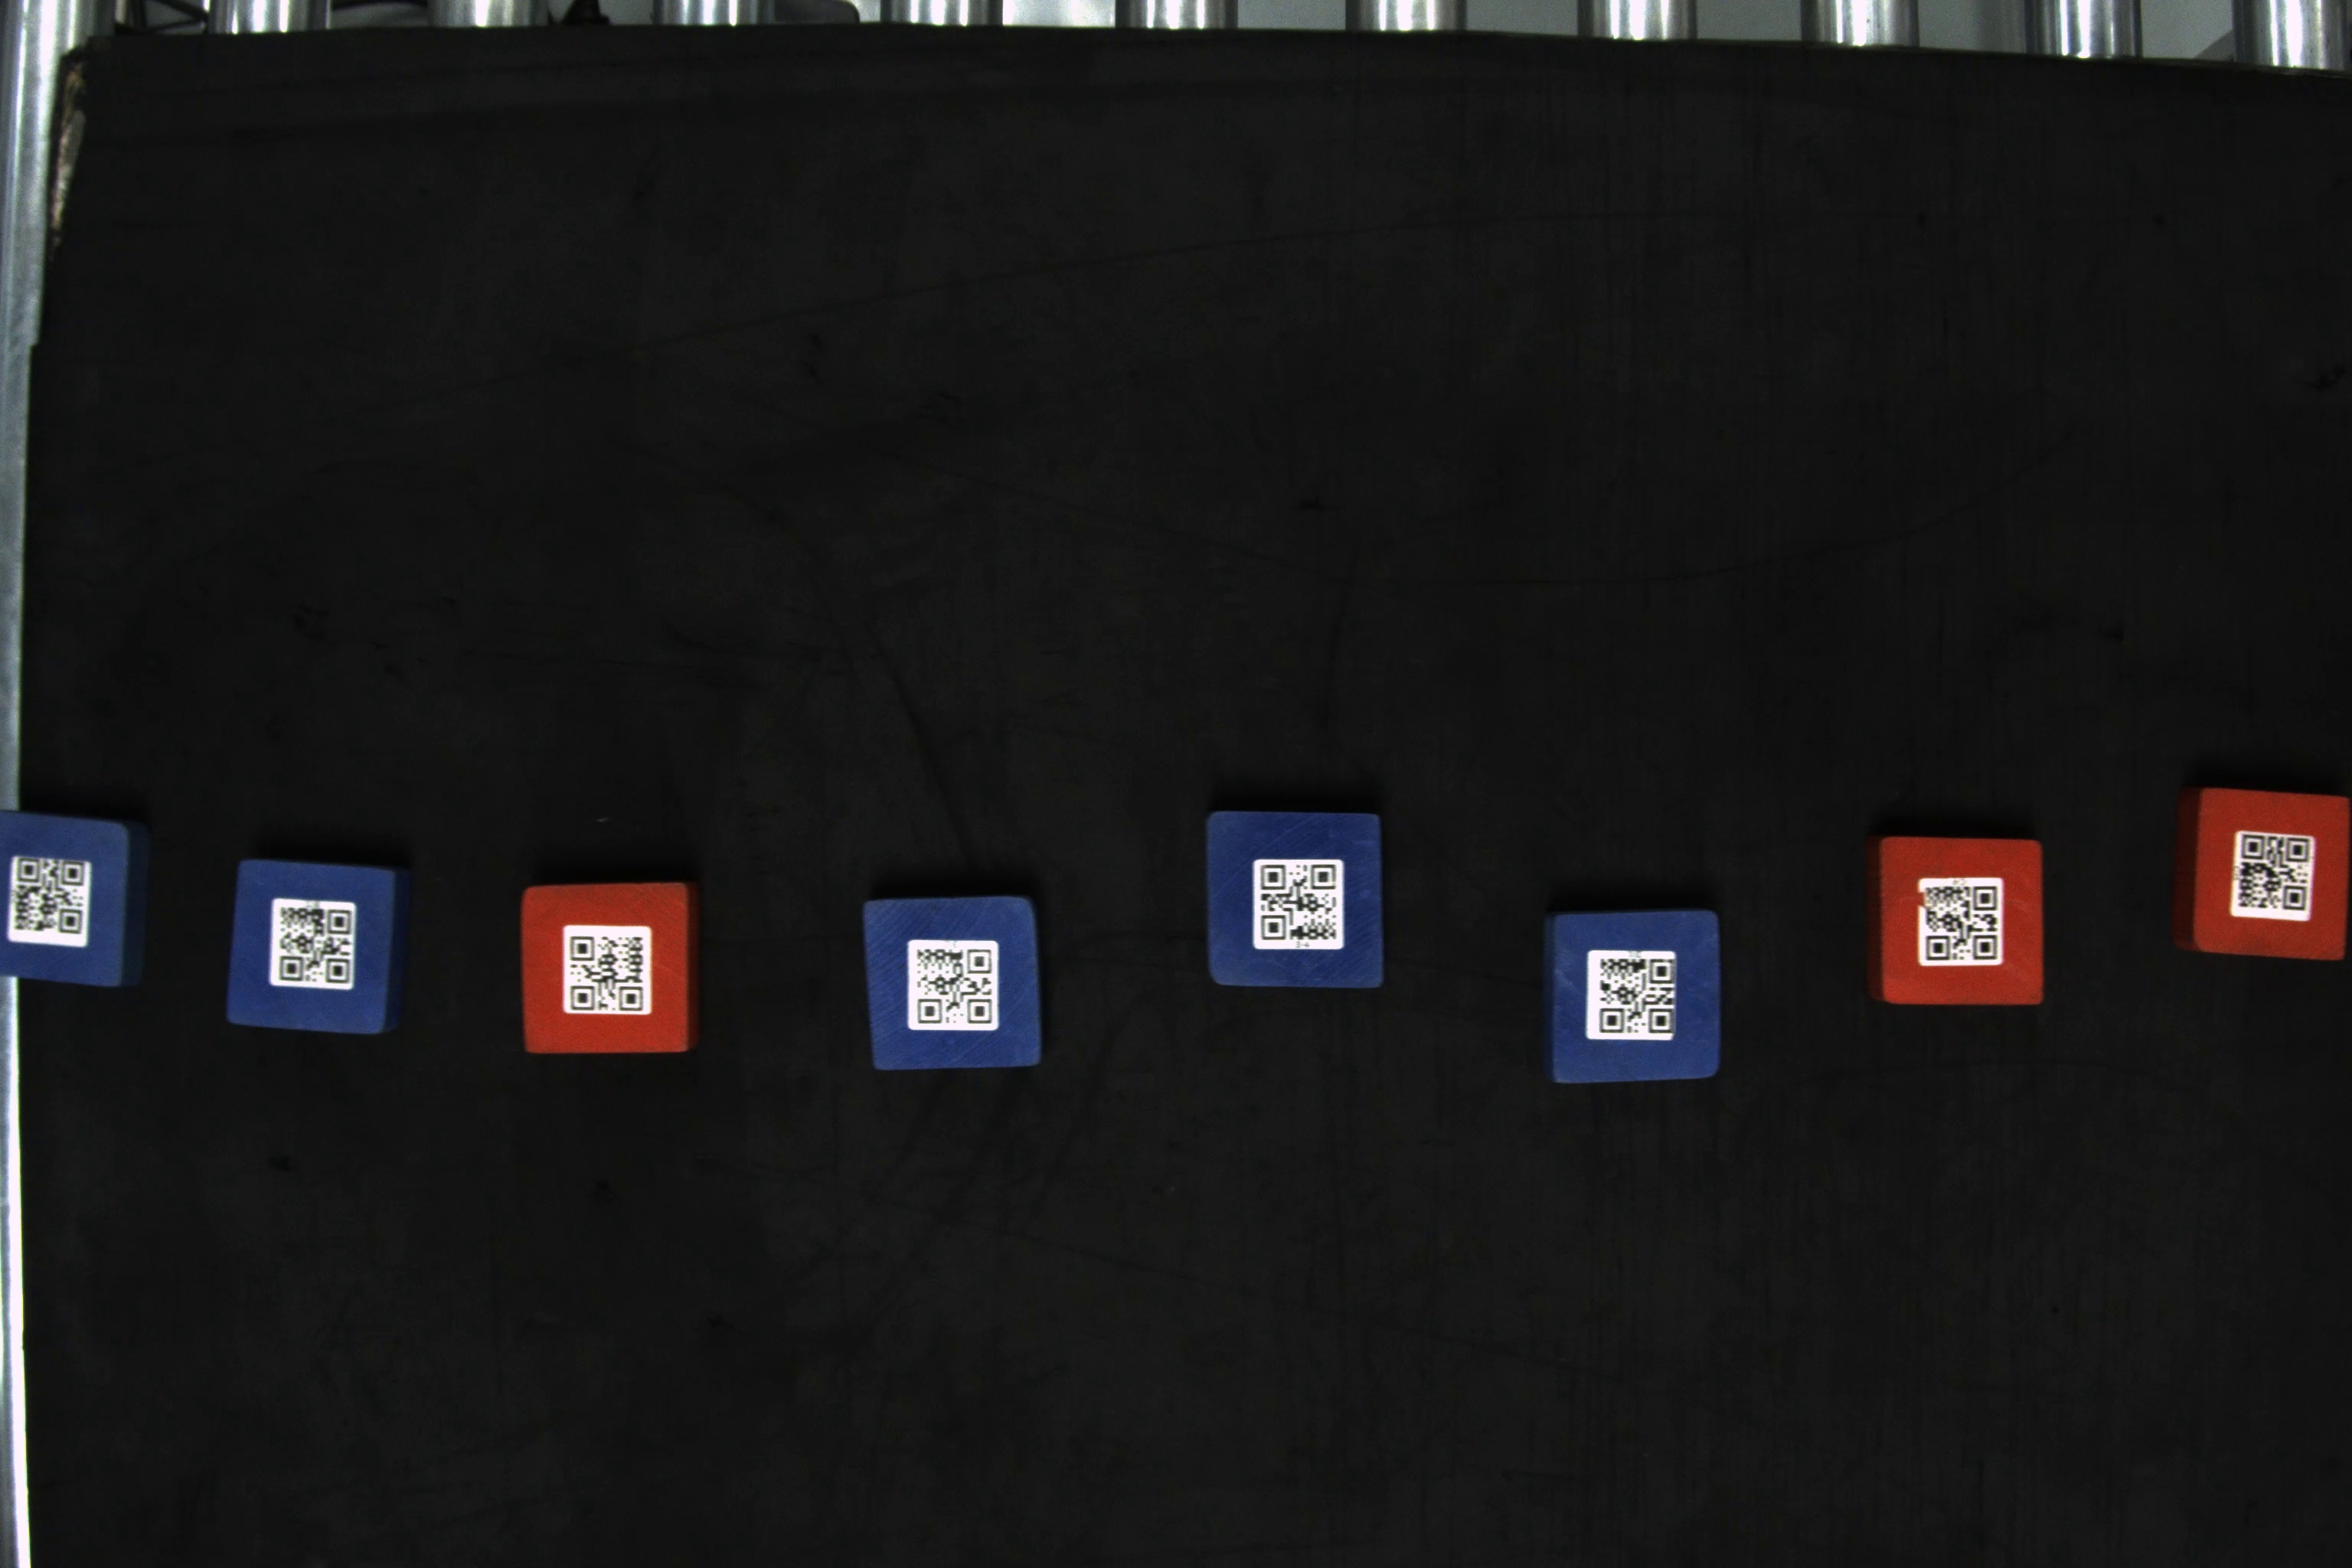wood: (1202, 808, 1391, 994), (1862, 829, 2051, 1011), (1543, 912, 1732, 1087), (520, 880, 703, 1059), (857, 898, 1046, 1071), (2175, 782, 2352, 966), (224, 856, 402, 1031), (5, 801, 147, 994)
